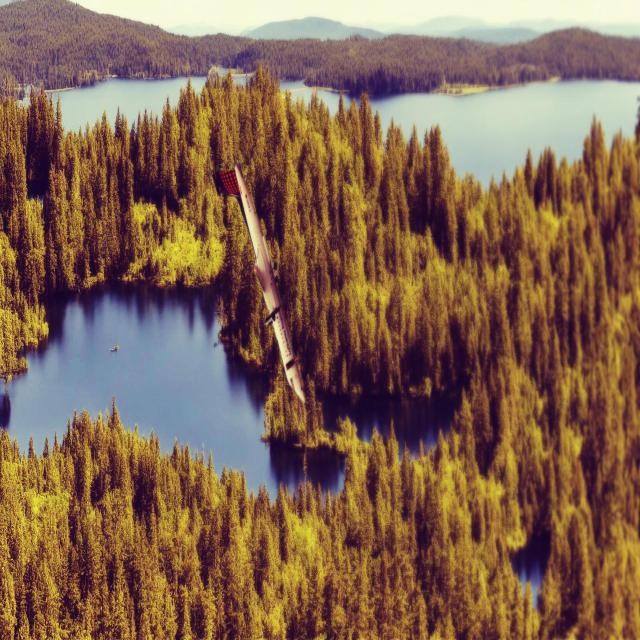airplane: (210, 157, 306, 405)
